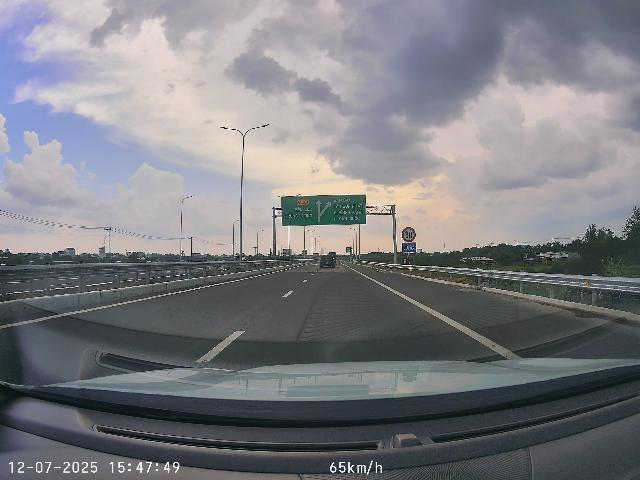127-toc-do-toi-da-80: (401, 227, 416, 242)
